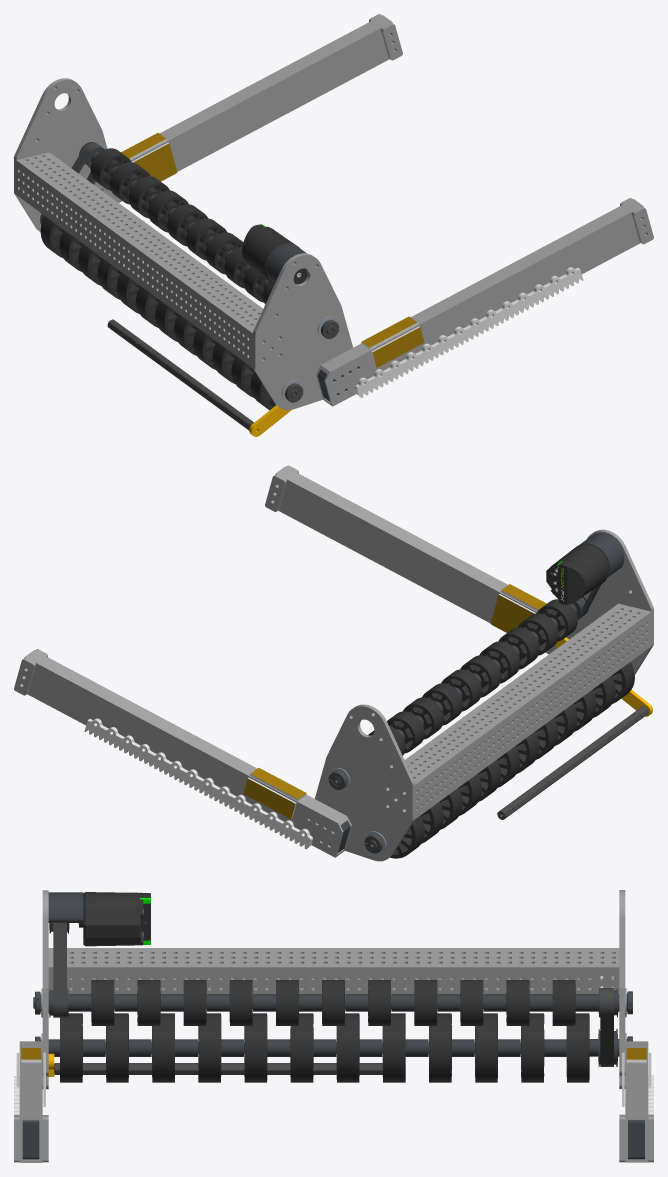
3 renders of one model, top to bottom at view 1: azimuth 30°, elevation 25°; view 2: azimuth 150°, elevation 25°; view 3: azimuth 270°, elevation 25°, orthographic. The views are drawn at different scales.
Parts seen in each view (by area): view 1: Tube 2"x2"x24.75", Part 4 (×2), Part 6, Part 13, 2" Flex Wheel (30A, 1" Wide, 1/2" Hex Bore) (×8), 10 DP Gear Rack (#10-32 Clearance) (×2), 3" Flex Wheel (30A, 1" Wide, 1/2" Hex Bore) (×5), VEX-THND-500-15-NONE, Kraken X60 Brushless Motor, GearTeflon, OuterTeflon, Part 8 (+1 smaller); view 2: Tube 2"x2"x24.75", Part 4 (×2), Part 13, Part 6, 2" Flex Wheel (30A, 1" Wide, 1/2" Hex Bore) (×9), 3" Flex Wheel (30A, 1" Wide, 1/2" Hex Bore) (×12), 10 DP Gear Rack (#10-32 Clearance) (×2), Kraken X60 Brushless Motor, VEX-THND-500-15-NONE, GearTeflon, OuterTeflon, Part 8 (+1 smaller); view 3: Tube 2"x2"x24.75", 3" Flex Wheel (30A, 1" Wide, 1/2" Hex Bore) (×12), 2" Flex Wheel (30A, 1" Wide, 1/2" Hex Bore) (×11), 1" L 1/2" Hex Spacer (×23), Kraken X60 Brushless Motor, Part 4 (×2), VEX-THND-500-15-NONE, Part 6, Part 13, Part 10 (×2), 5mmBelt-55-15mm-18-18, Part 8 (+1 smaller).
Part boxes in pixels (x1,y1,x2,y2): Tube 2"x2"x24.75": (16,152,262,367); Part 4 (×2): (14,78,352,410); Part 6: (316,199,643,406); Part 13: (110,15,392,202); 2" Flex Wheel (30A, 1" Wide, 1/2" Hex Bore) (×8): (90,148,247,288); 10 DP Gear Rack (#10-32 Clearance) (×2): (355,267,583,397); 3" Flex Wheel (30A, 1" Wide, 1/2" Hex Bore) (×5): (78,244,216,369); VEX-THND-500-15-NONE: (107,319,253,430); Kraken X60 Brushless Motor: (242,224,301,284); GearTeflon: (371,326,424,367); OuterTeflon: (132,142,177,181); Part 8: (266,244,306,282); Tube 2"x2"x24.75": (404,603,651,818); Part 4 (×2): (315,529,653,861); Part 13: (24,650,351,857); Part 6: (275,466,557,654); 2" Flex Wheel (30A, 1" Wide, 1/2" Hex Bore) (×9): (387,599,577,753); 3" Flex Wheel (30A, 1" Wide, 1/2" Hex Bore) (×12): (390,662,634,858); 10 DP Gear Rack (#10-32 Clearance) (×2): (84,718,312,849); Kraken X60 Brushless Motor: (546,544,609,604); VEX-THND-500-15-NONE: (497,706,648,819); GearTeflon: (243,777,296,819); OuterTeflon: (490,594,535,632); Part 8: (579,533,624,577); Tube 2"x2"x24.75": (48,948,619,996); 3" Flex Wheel (30A, 1" Wide, 1/2" Hex Bore) (×12): (60,1013,589,1082); 2" Flex Wheel (30A, 1" Wide, 1/2" Hex Bore) (×11): (91,980,575,1025); 1" L 1/2" Hex Spacer (×23): (68,994,598,1056); Kraken X60 Brushless Motor: (78,892,150,946); Part 4 (×2): (42,890,625,1089); VEX-THND-500-15-NONE: (54,1063,382,1074); Part 6: (19,1041,42,1162); Part 13: (625,1041,648,1162); Part 10 (×2): (22,1120,644,1159); 5mmBelt-55-15mm-18-18: (53,922,66,1017); Part 8: (48,892,83,922).
Size of the model in its own units: 0.5958 by 0.2532 by 0.7048.
